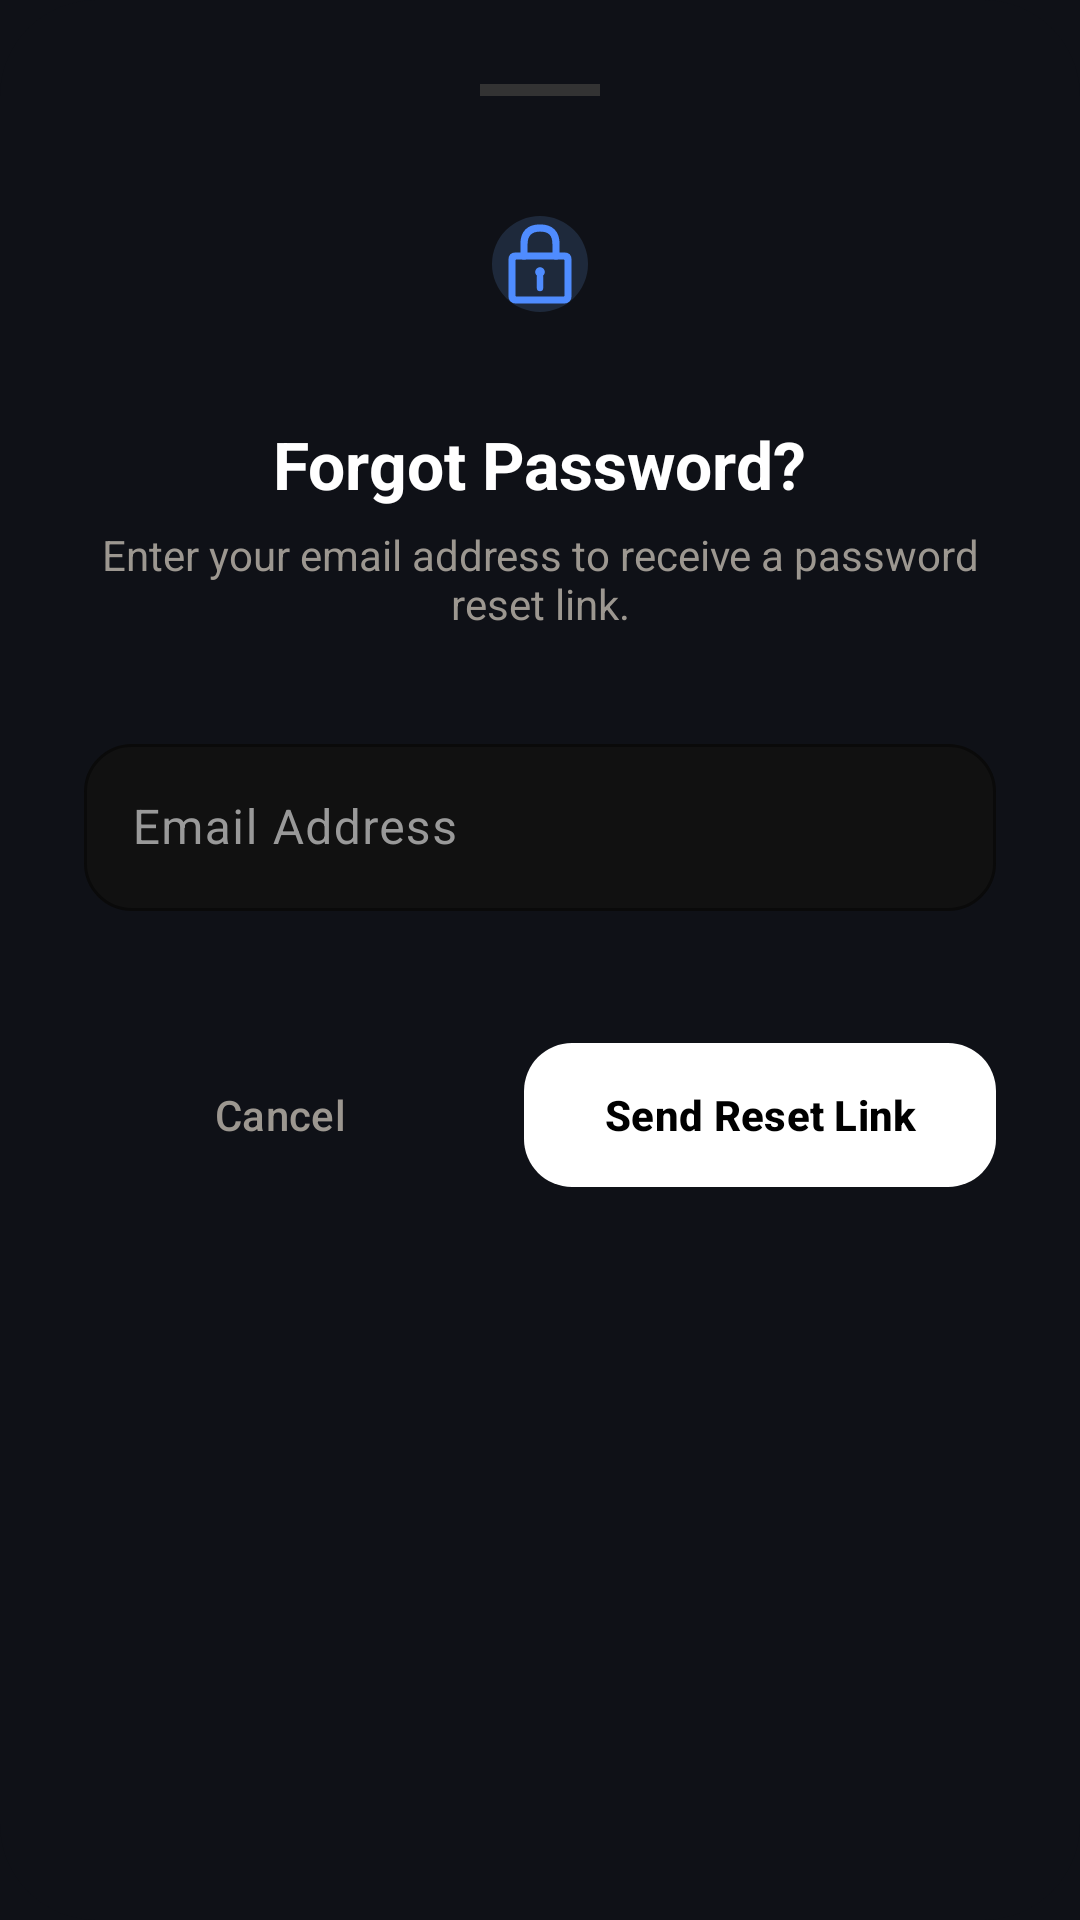

Named icons in this screenshot (1080×1920) and their centers, point (x, y):
lock: point (540, 264)
